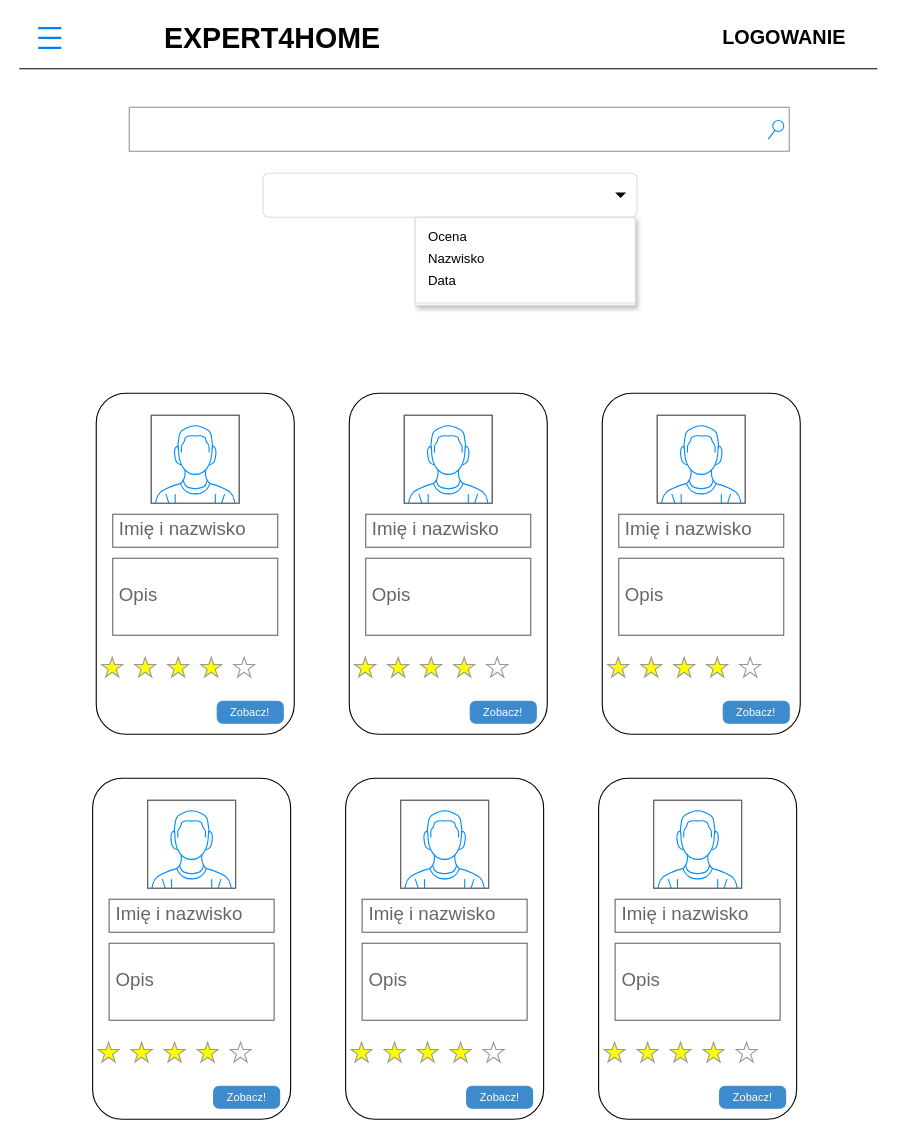
This 897x1139 diagram has some shape labels left out. Each missing label, with the centre of its shape:
"Sortuj po" belongs at (449,194).
"Wyszukaj specjalistę!" belongs at (458,128).
